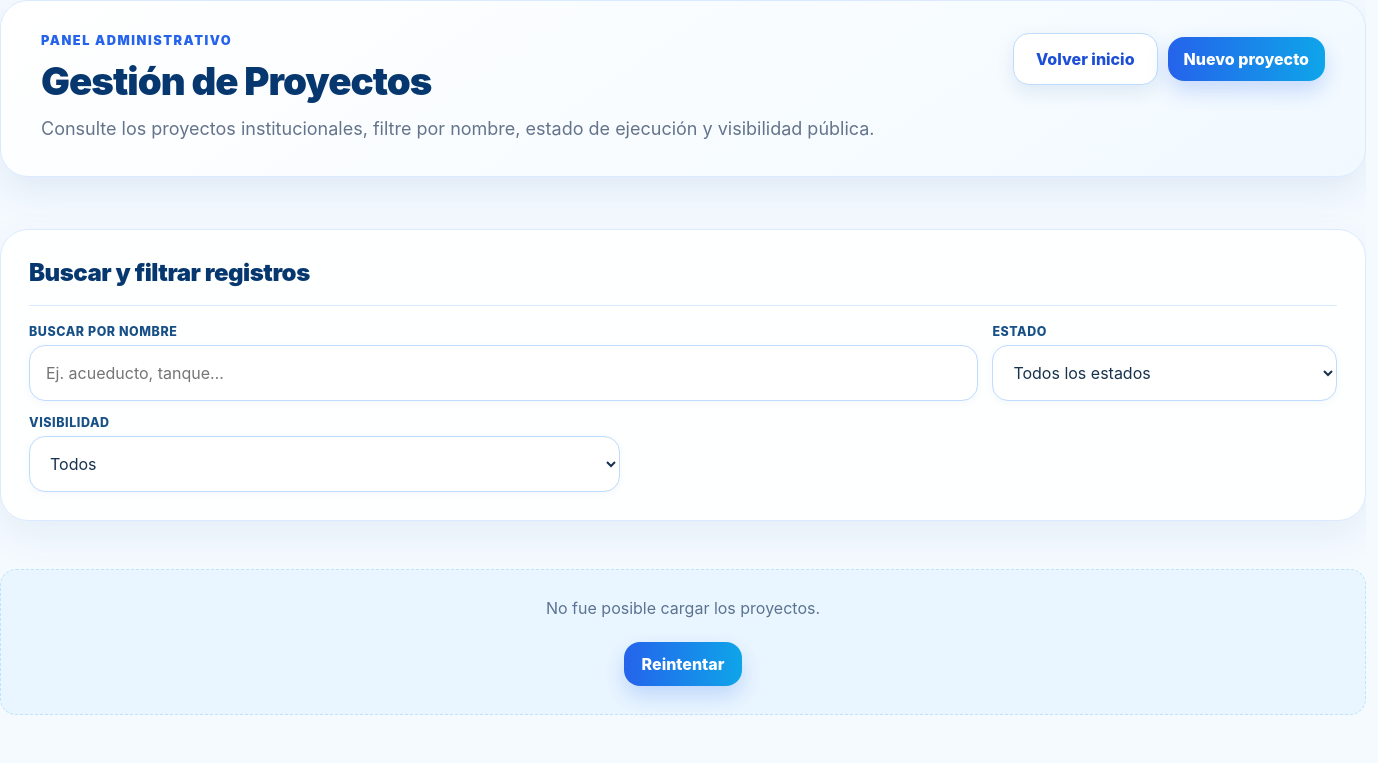
it: ProyectosAdminPage — estados de consulta › muestra error con reintento y no un 404 de filtros
Click the button "Reintentar" at (683, 664), box [624,642,742,686]
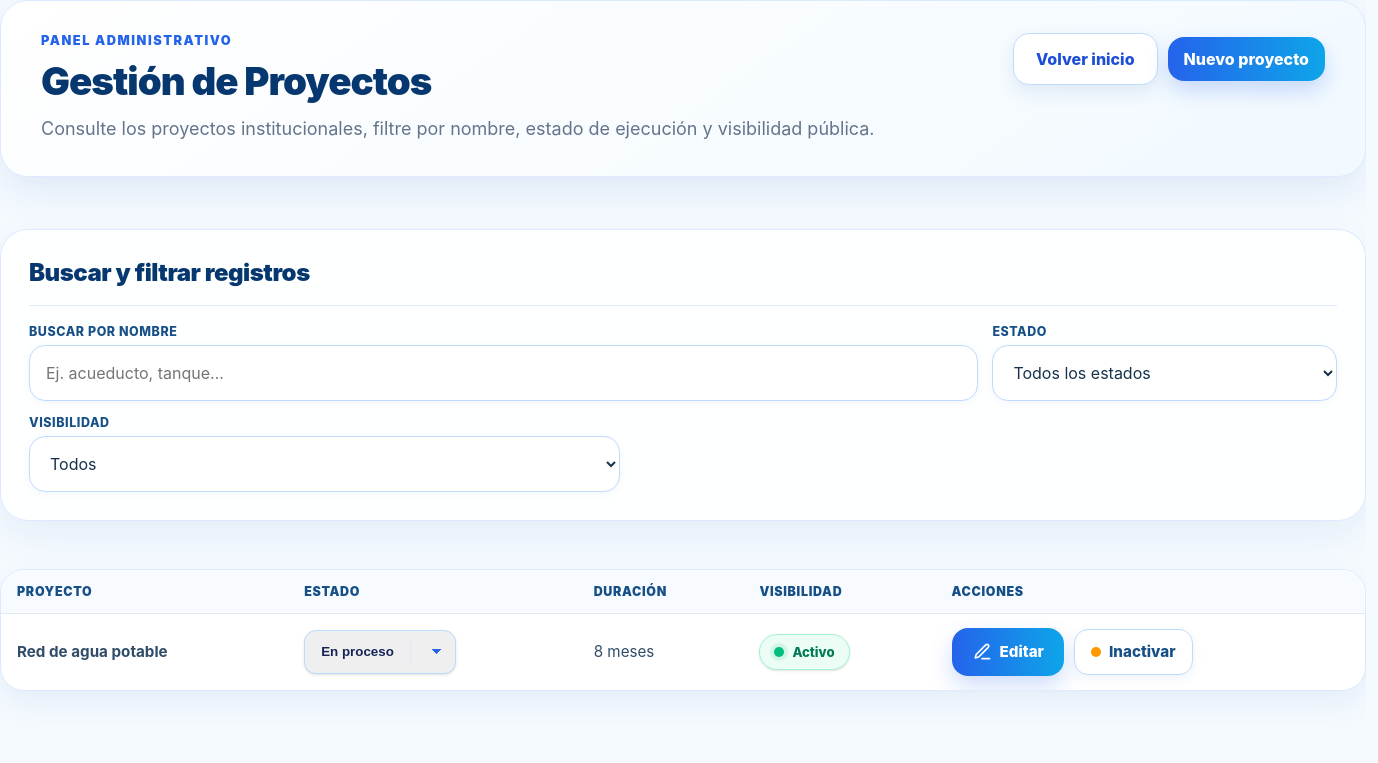
Expected: the text "Red de agua potable" is shown, [1,614,288,690]
